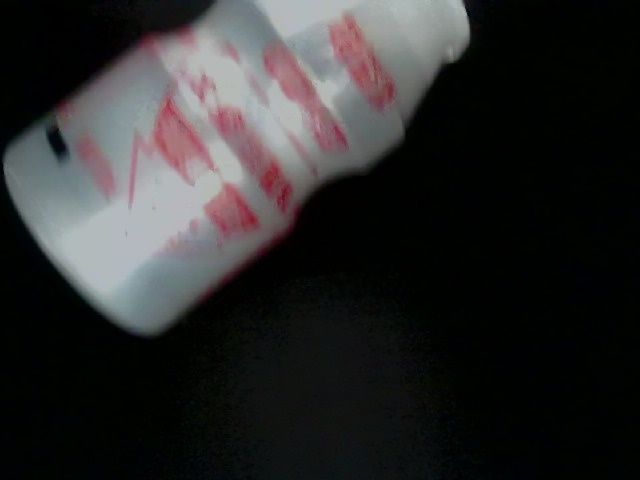CYLJ: (210, 215, 315, 320)
